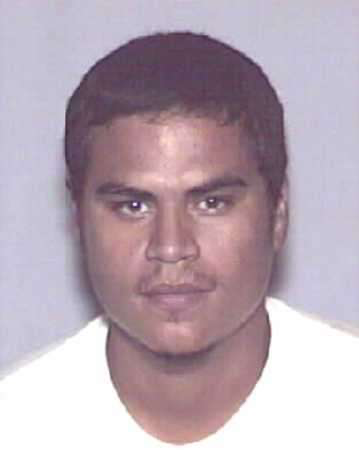Face: (76, 138, 267, 350)
